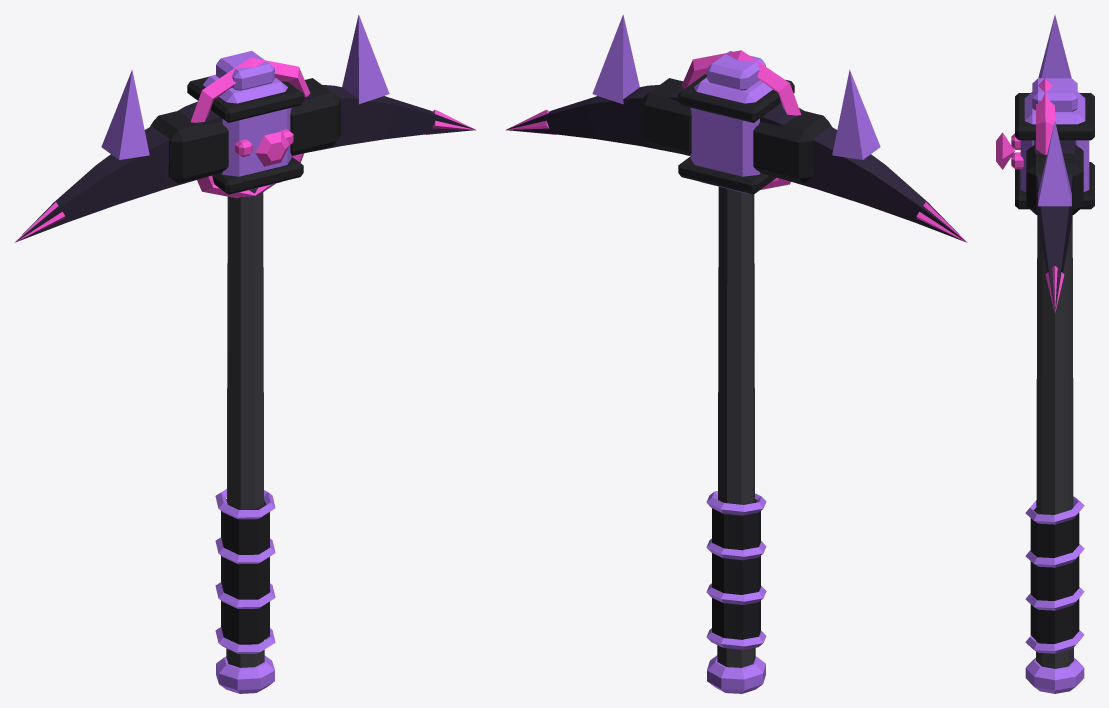
Rendered from VoidPickaxe.fbx.
The picture shows the model from 3 angles, left to right: view 1: azimuth 30°, elevation 25°; view 2: azimuth 150°, elevation 25°; view 3: azimuth 270°, elevation 25°; orthographic projection. The views are drawn at different scales.
Visible parts, largest first — view 1: VoidPickaxe; view 2: VoidPickaxe; view 3: VoidPickaxe.
Part boxes in pixels (x1,y1,x2,y2): VoidPickaxe: (14, 14, 475, 693); VoidPickaxe: (506, 14, 967, 693); VoidPickaxe: (996, 15, 1094, 693).
Size of the model in its own units: 2.7 by 3.59 by 0.52.
Materials: 1 (1 with a texture image).
